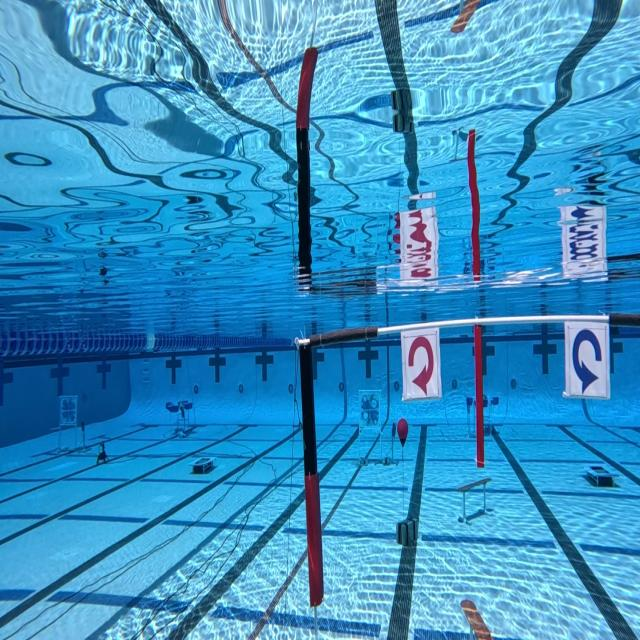blue_side: (564, 316, 613, 396)
red_side: (401, 328, 442, 402)
